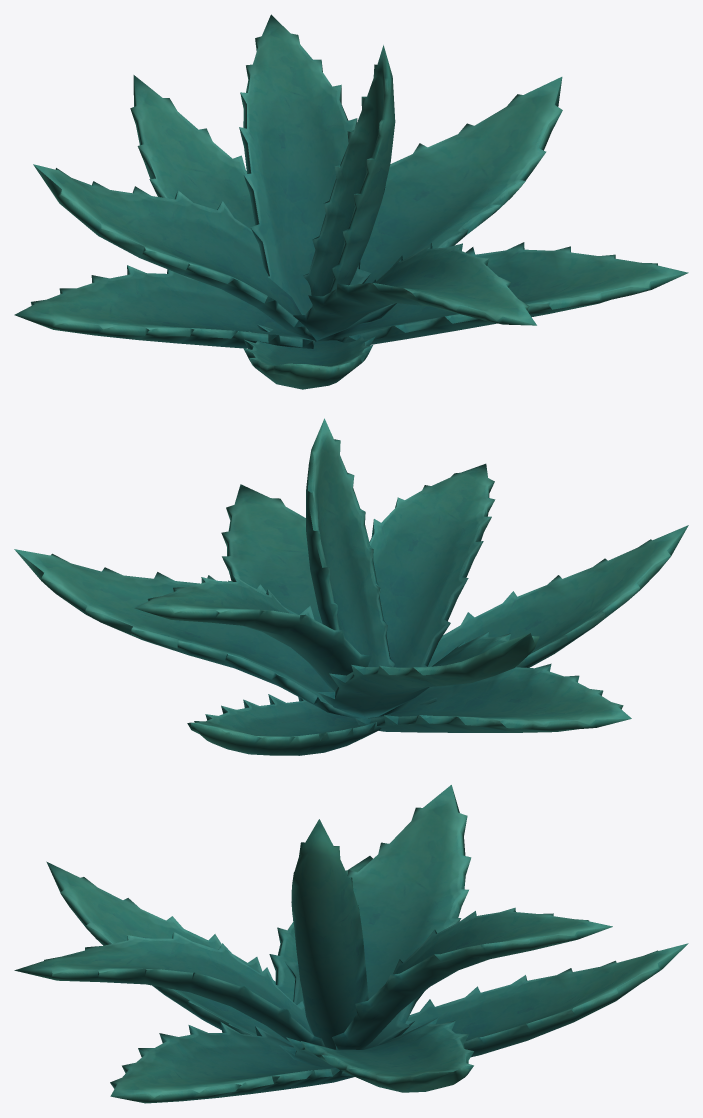
The model's file is DE_Cactus_05.fbx.
The picture shows the model from 3 angles, top to bottom: view 1: azimuth 30°, elevation 25°; view 2: azimuth 150°, elevation 25°; view 3: azimuth 270°, elevation 25°; orthographic projection. The views are drawn at different scales.
Visible parts, largest first — view 1: DE_Cactus_05; view 2: DE_Cactus_05; view 3: DE_Cactus_05.
Part boxes in pixels (x1,y1,x2,y2): DE_Cactus_05: (14,14,688,389); DE_Cactus_05: (14,418,688,755); DE_Cactus_05: (14,785,688,1103).
Size of the model in its own units: 3.25 by 1.52 by 3.37.
